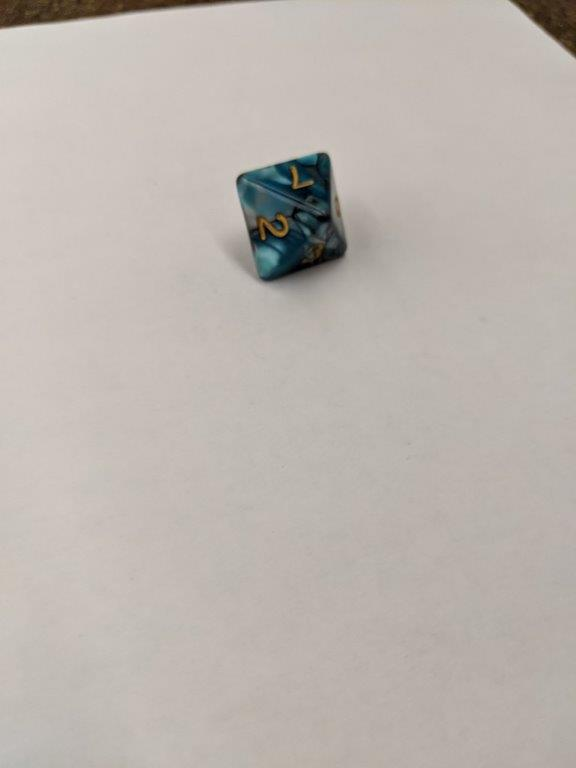d8-7: (236, 148, 349, 283)
